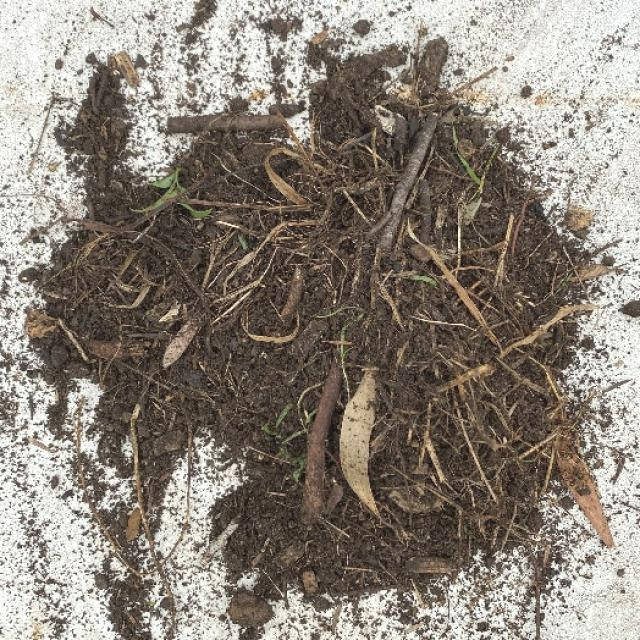wet: (416, 232, 612, 546), (307, 111, 446, 525), (46, 66, 298, 240), (76, 392, 190, 616), (245, 260, 304, 343)
